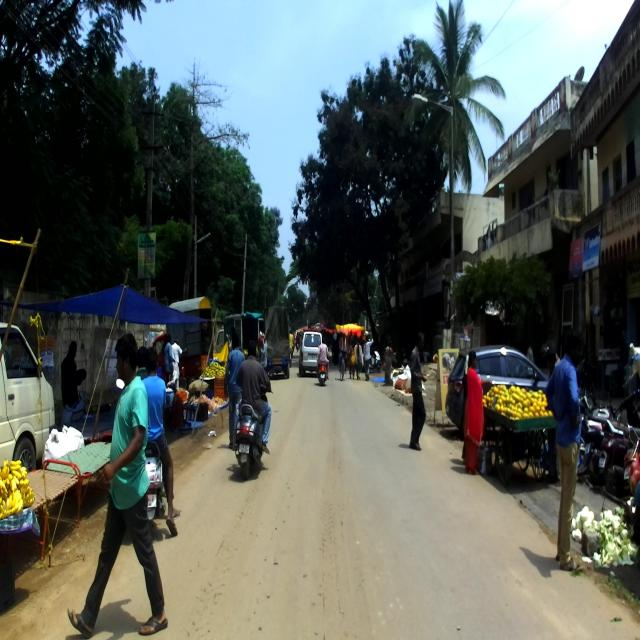car: (444, 343, 550, 438)
scooter: (116, 376, 171, 528), (233, 382, 275, 481)
